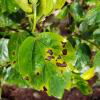Tomato leaf bacterial spot: (19, 32, 78, 97)
